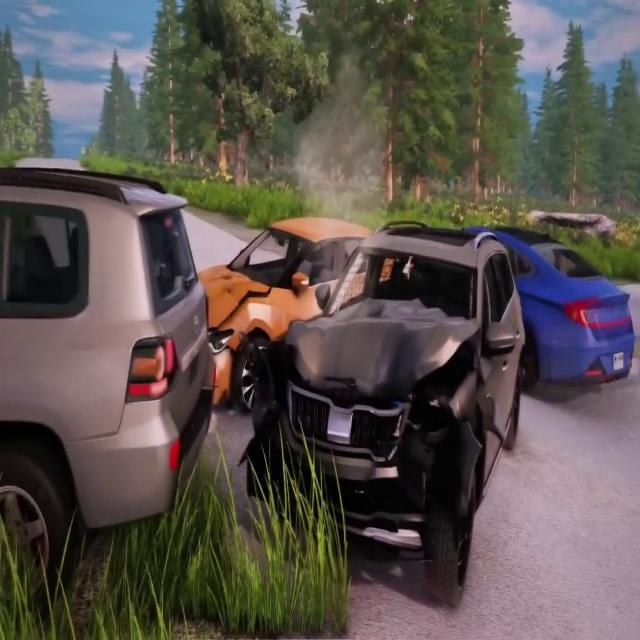accident: (194, 210, 638, 606)
